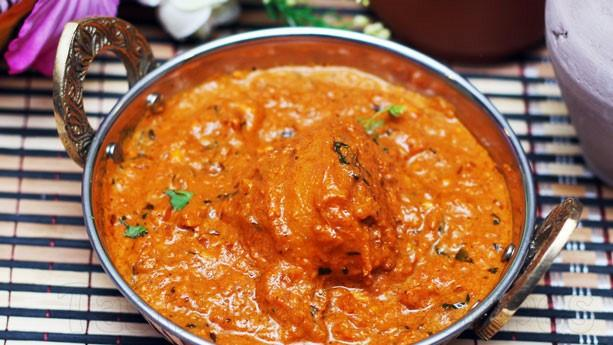DumAloo: (102, 62, 512, 345)
